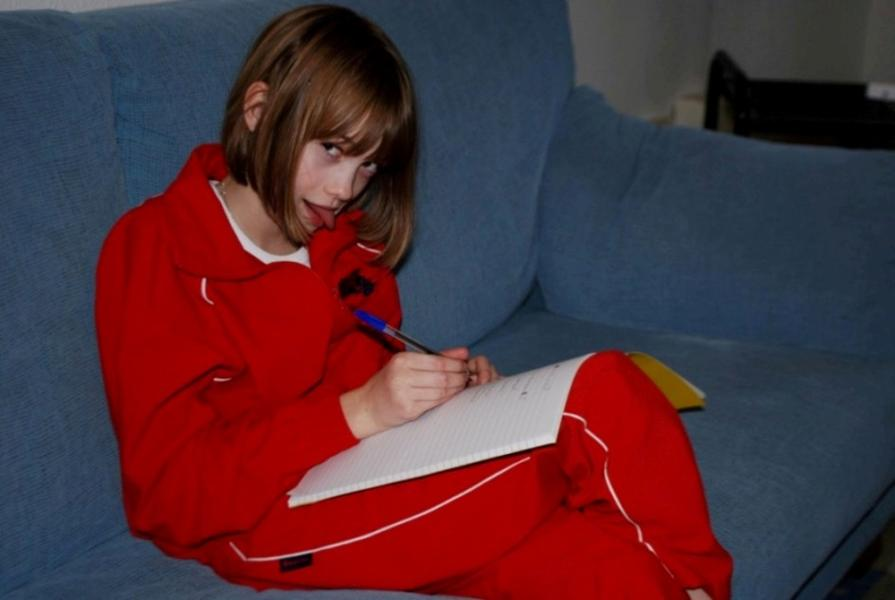person: (97, 9, 736, 596)
